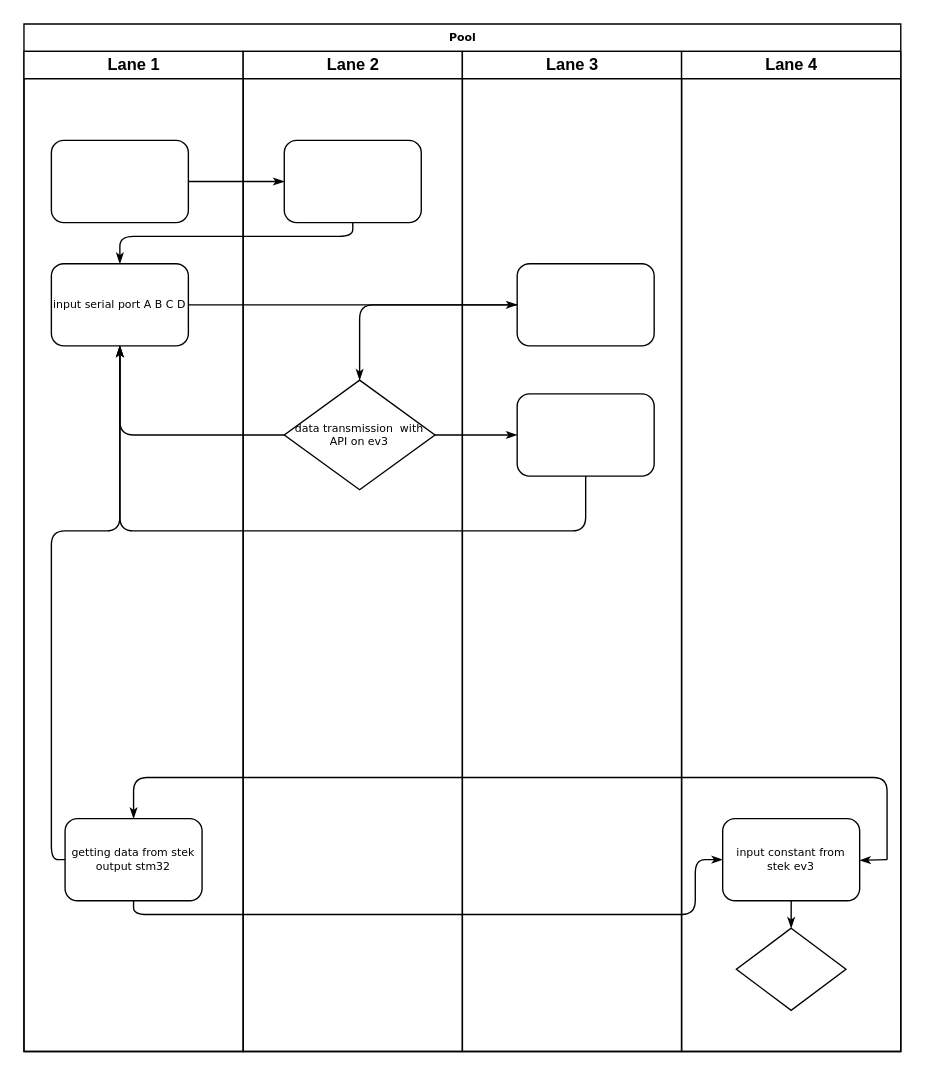
The diagram is 925 pixels wide and 1075 high, and some of its shapes have lost their labels. The shapes that lost their labels are listed below. From the top down, each one's centre as x and y in pixels, then its label:
At point 119,181: "memory stm32 with hex-mask 0x0f".
At point 352,181: "stek stm 32 & constant".
At point 585,304: "outputs data analog signal".
At point 585,434: "INputs serial port A B C D from stek --> constant".
At point 790,968: "analog".
